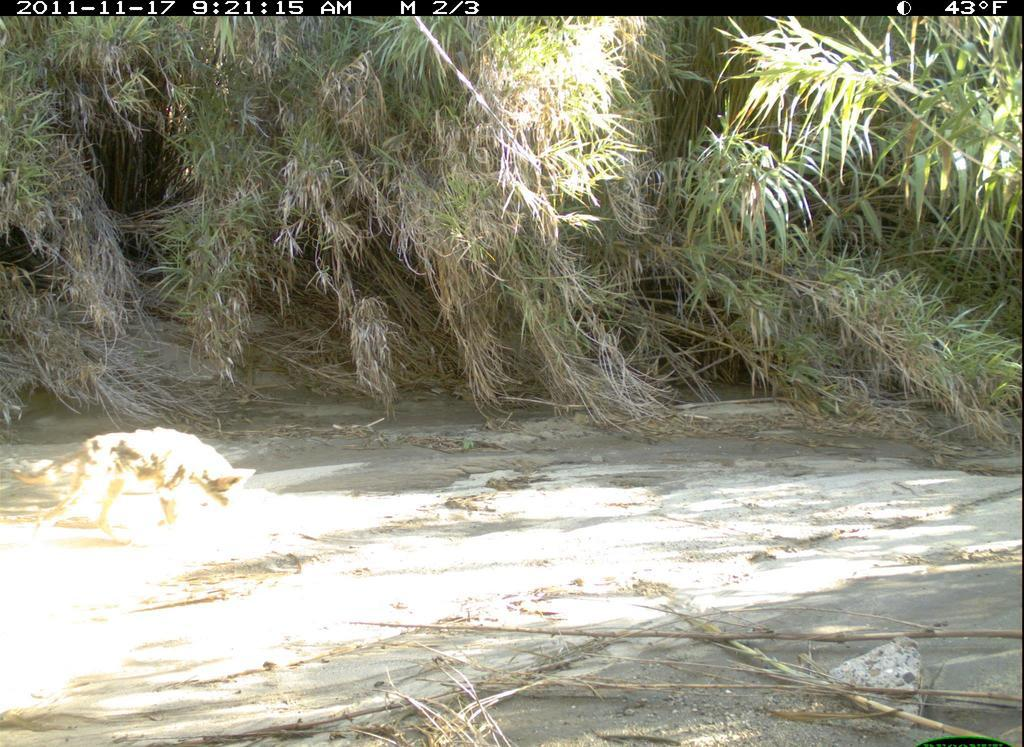coyote: (16, 423, 259, 541)
